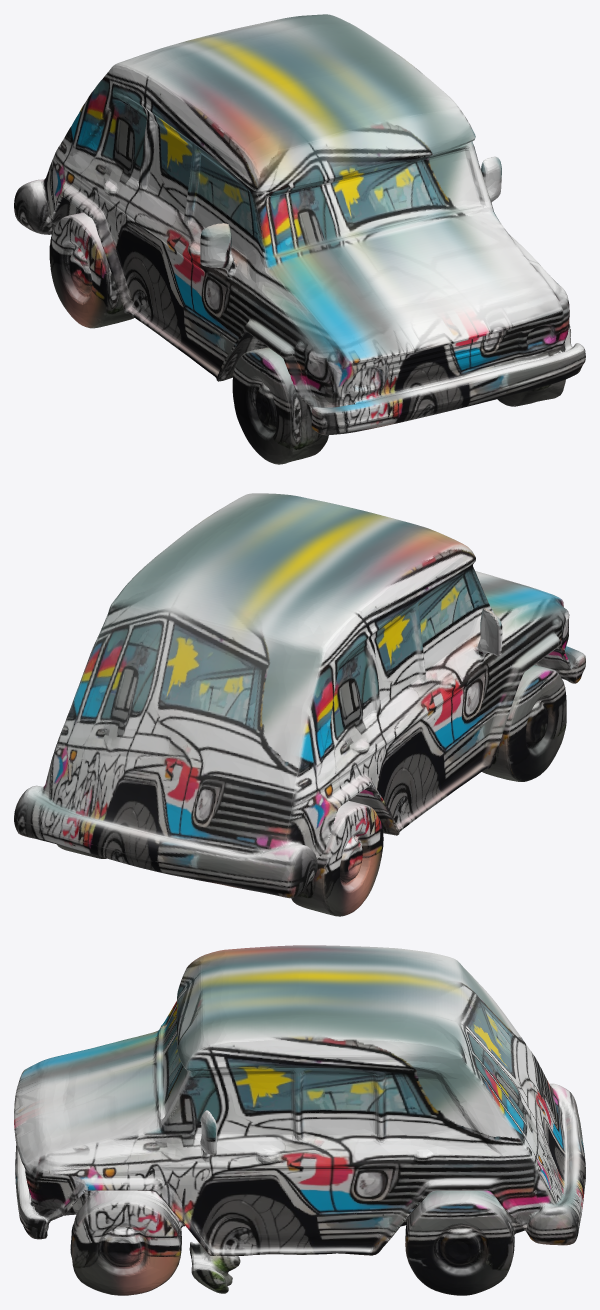
File: kit_jersey_barrier.glb
3 views of the same model, one above another, from view 1: azimuth 30°, elevation 25°; view 2: azimuth 150°, elevation 25°; view 3: azimuth 270°, elevation 25° (orthographic). The views are drawn at different scales.
Visible parts, largest first — view 1: kit_jersey_barrier; view 2: kit_jersey_barrier; view 3: kit_jersey_barrier.
Boxes of the visible parts, x1,y1,x2,y2 form: kit_jersey_barrier: [14, 14, 585, 464]; kit_jersey_barrier: [14, 493, 585, 916]; kit_jersey_barrier: [14, 945, 585, 1295].
Bounding box in the file's own units: 1.14 × 1 × 2.06.
1 material, 1 textured.
